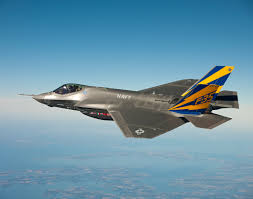fighter: (31, 62, 242, 144)
